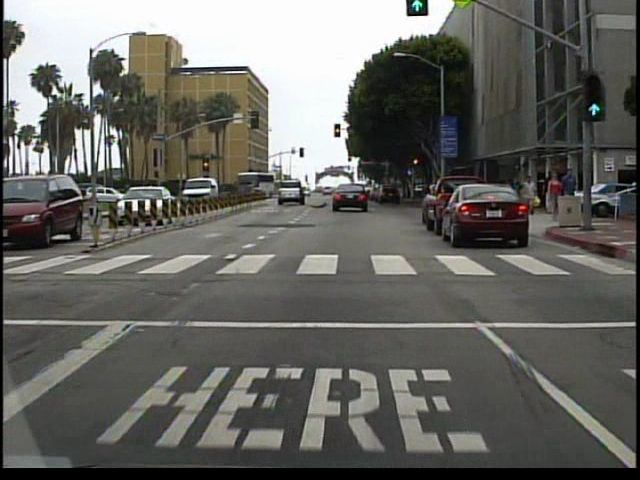person: (561, 167, 579, 223), (546, 172, 564, 223), (522, 173, 538, 207)
